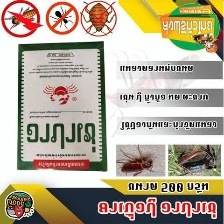insecticide: (12, 37, 111, 174)
